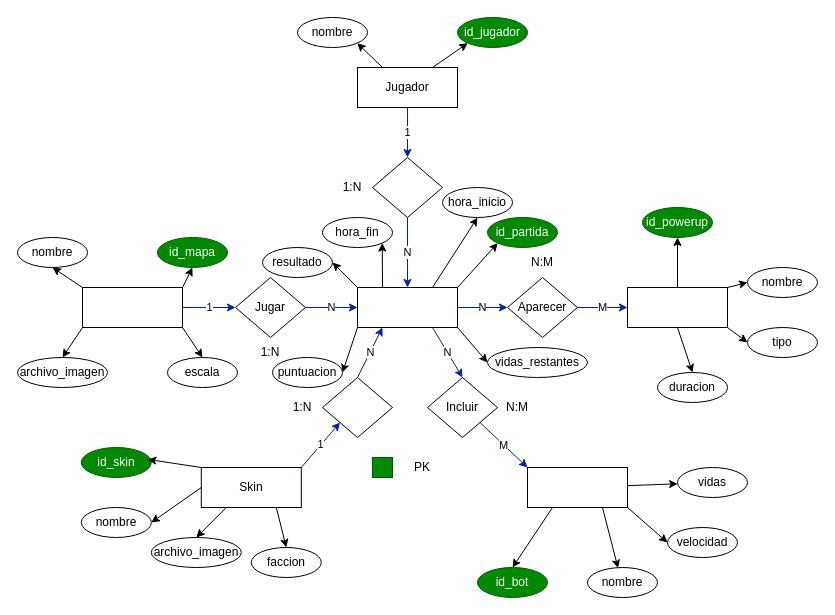
The diagram is 835 pixels wide and 615 high, and some of its shapes have lost their labels. Each missing label, with the centre of its shape:
"Bot" goes at (577,487).
"Mapa" goes at (132,307).
"Partida" goes at (407,307).
"PowerUp" goes at (677,307).
"Realizar" goes at (407,187).
"Utilizar" goes at (357,407).
